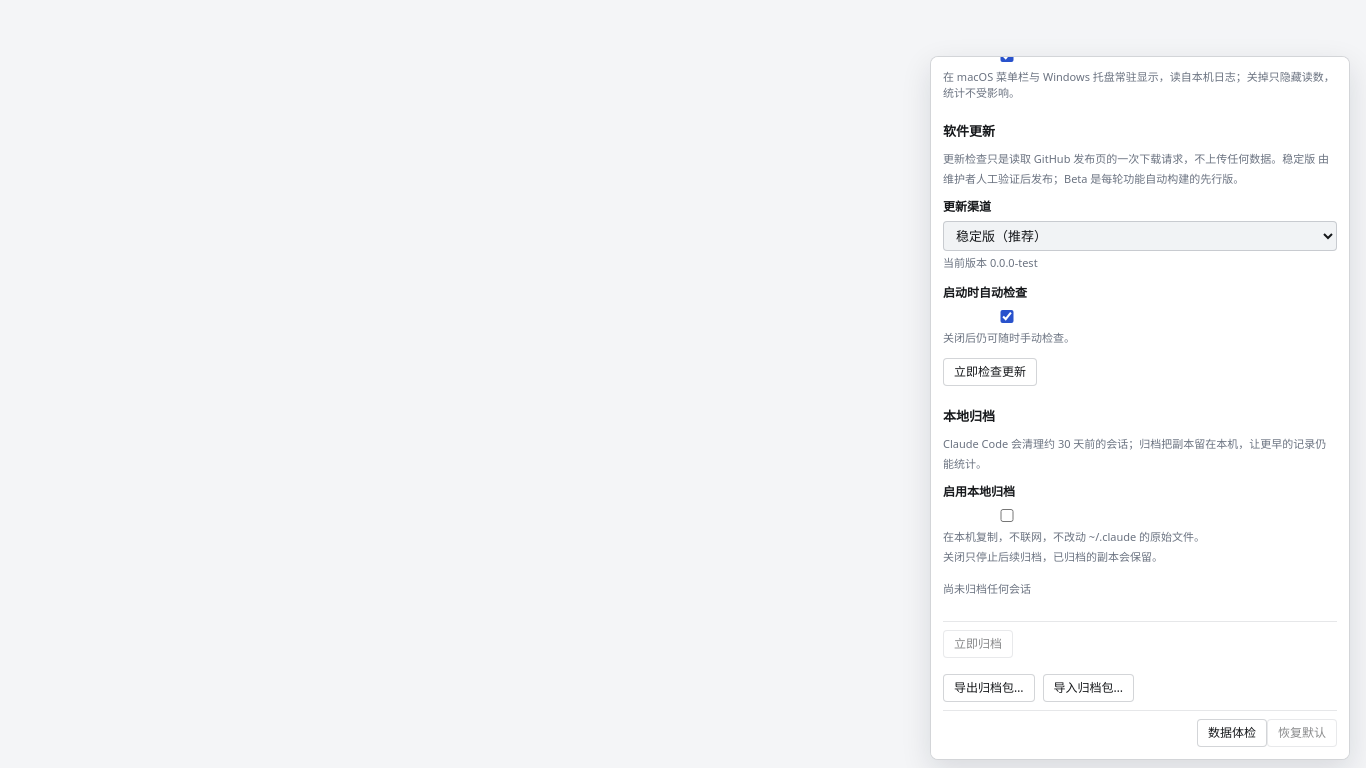
Test case: 归档包（Issue #152） › 导入：只输一次口令，读数四类齐全，归档读数跟着变
(page scrolled)
Click the button "导入归档包…" at (1088, 688), box [1042,674,1134,702]
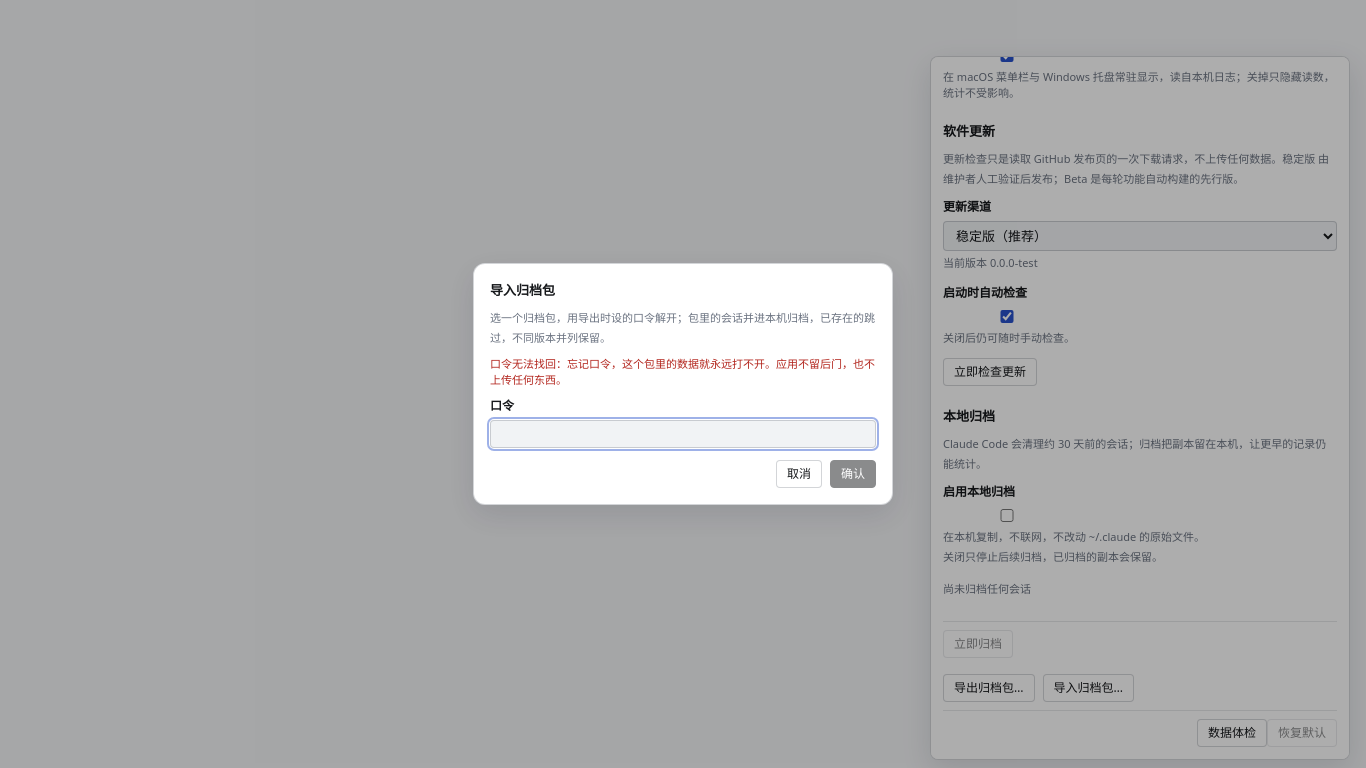
Type "hunter2" into the password field labelled "口令" at (683, 434), box [490,420,876,448]
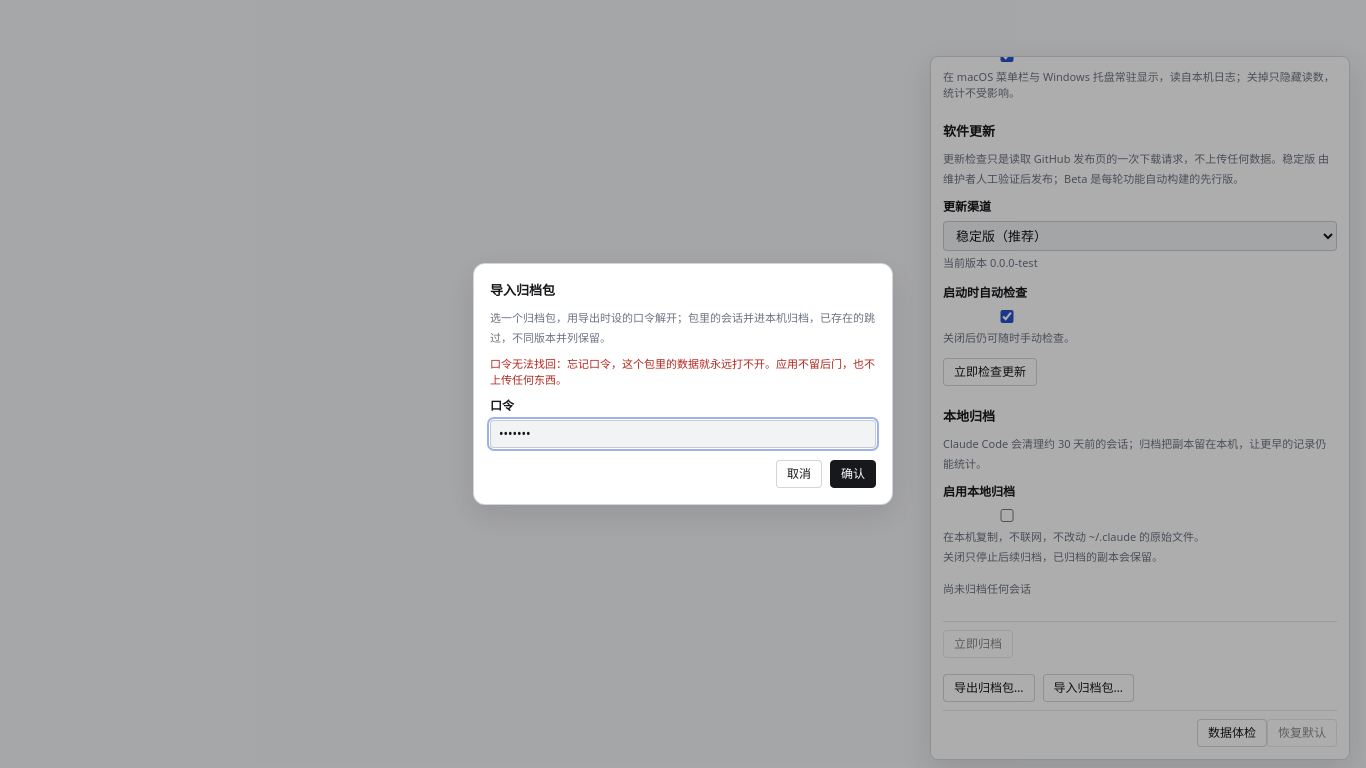
Click the button "确认" at (853, 474), box [830,460,876,488]
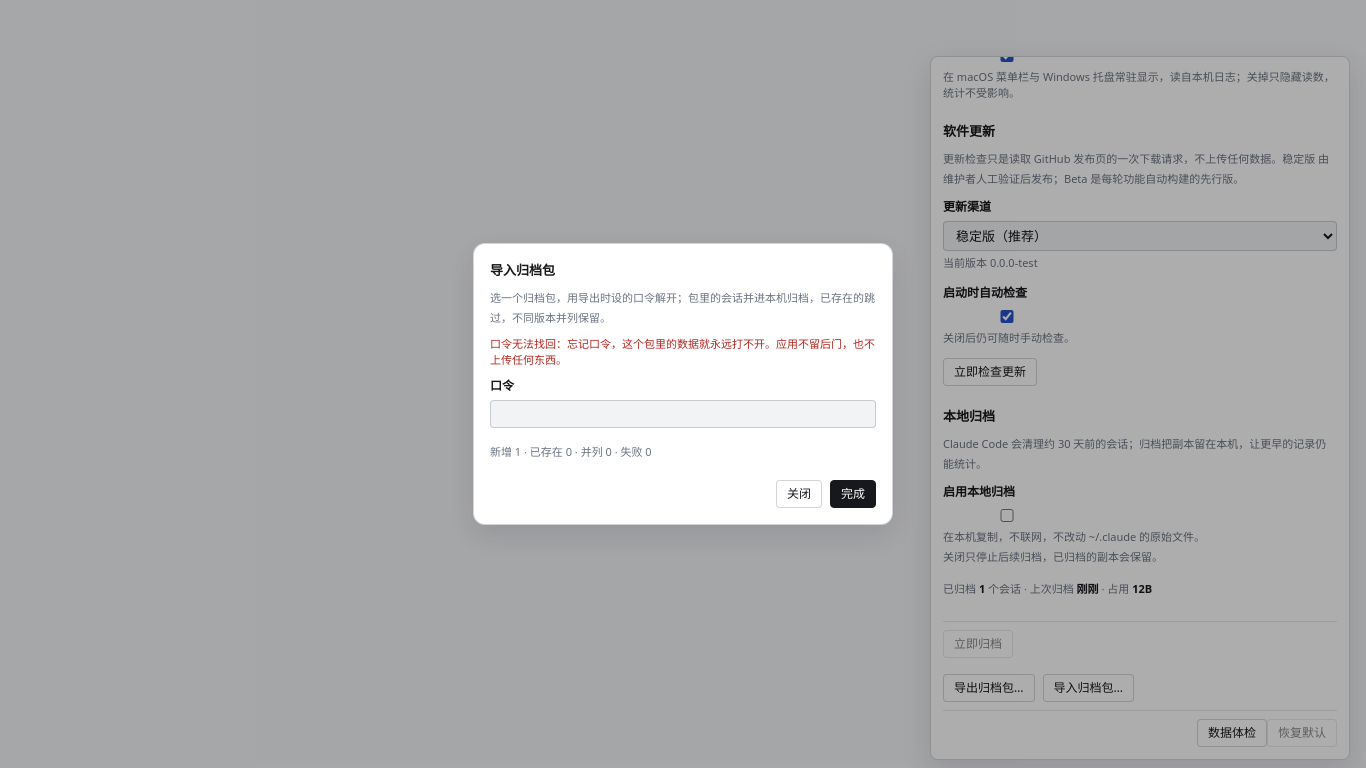
Check: the text "新增 1 · 已存在 0 · 并列 0 · 失败 0" is shown, box [490,444,652,459]
